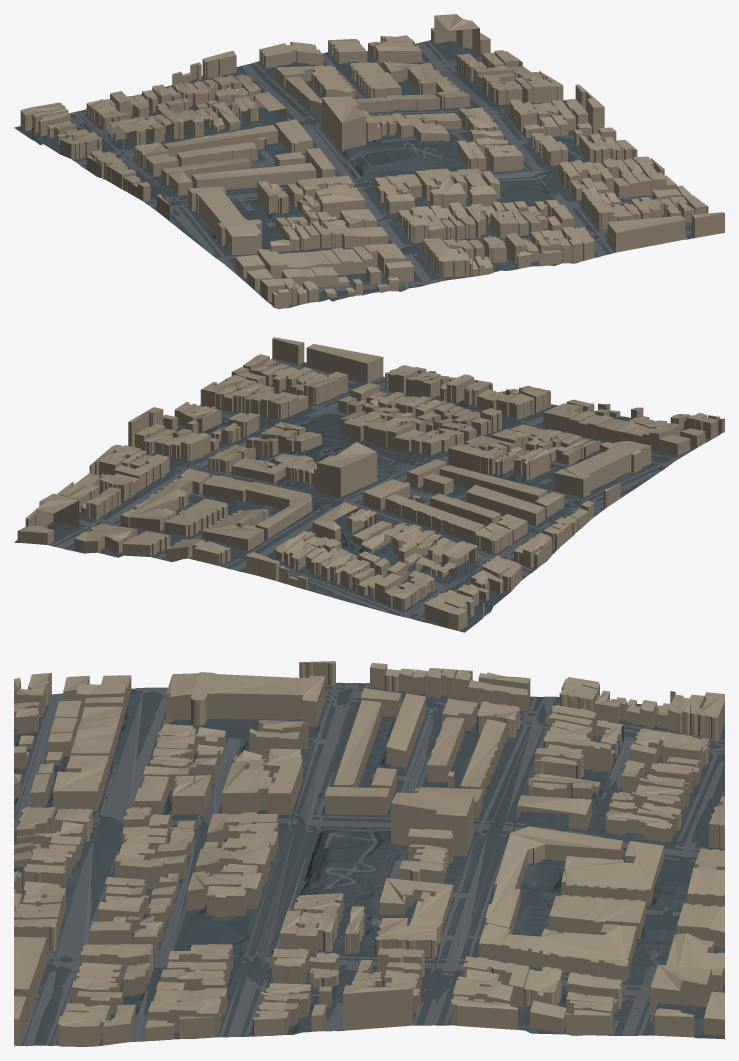
Rendered from epsg26910-1433-10887.lod0.glb.
3 renders of one model, top to bottom at view 1: azimuth 30°, elevation 25°; view 2: azimuth 150°, elevation 25°; view 3: azimuth 270°, elevation 25°, orthographic. The views are drawn at different scales.
Visible parts, largest first — view 1: epsg26910-1433-10887-lod0; view 2: epsg26910-1433-10887-lod0; view 3: epsg26910-1433-10887-lod0.
Part boxes in pixels (<box>): epsg26910-1433-10887-lod0: <box>14,14,724,308</box>; epsg26910-1433-10887-lod0: <box>14,337,724,632</box>; epsg26910-1433-10887-lod0: <box>14,661,724,1046</box>.
Bounding box in the file's own units: 384 × 57.65 × 384.
